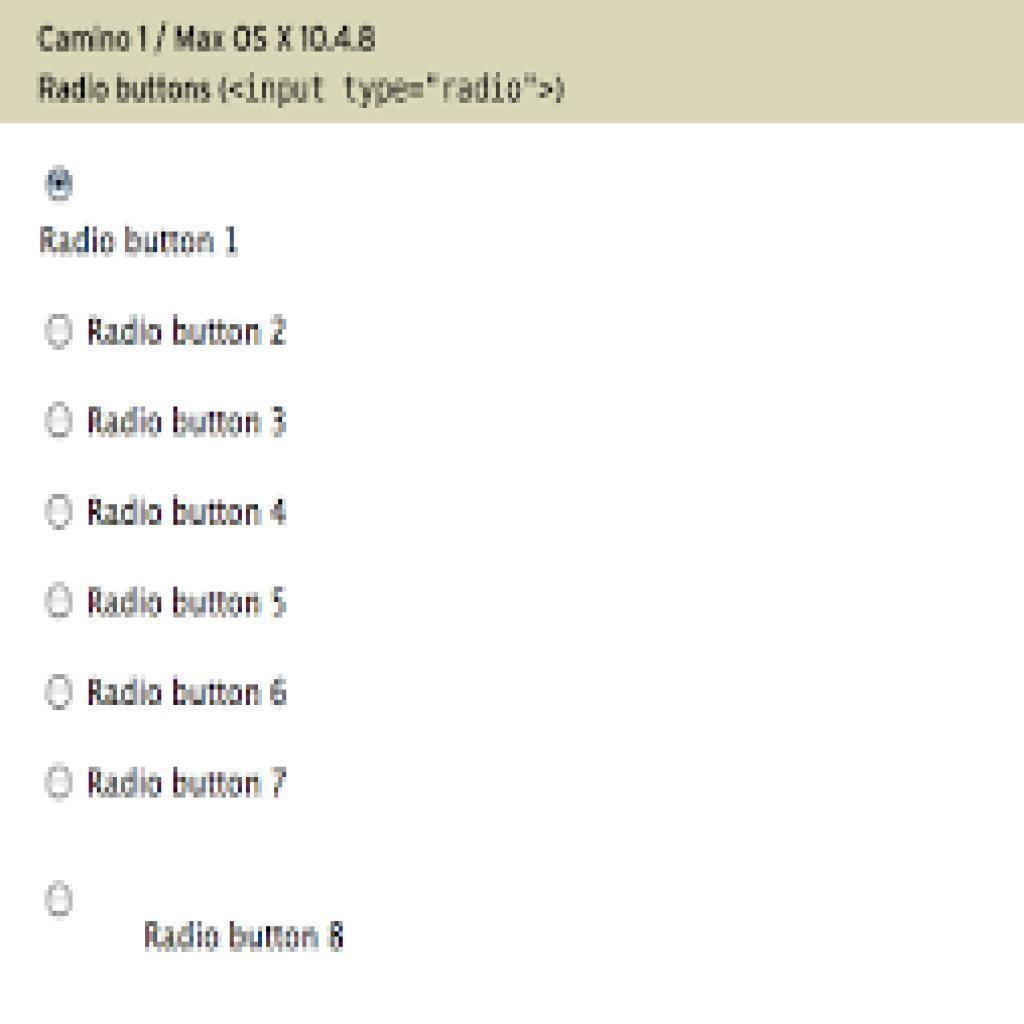radio: (39, 571, 81, 639), (44, 390, 78, 454), (41, 663, 80, 718), (41, 482, 80, 536), (41, 156, 76, 214), (41, 754, 78, 808), (41, 867, 76, 922), (41, 307, 78, 355)
